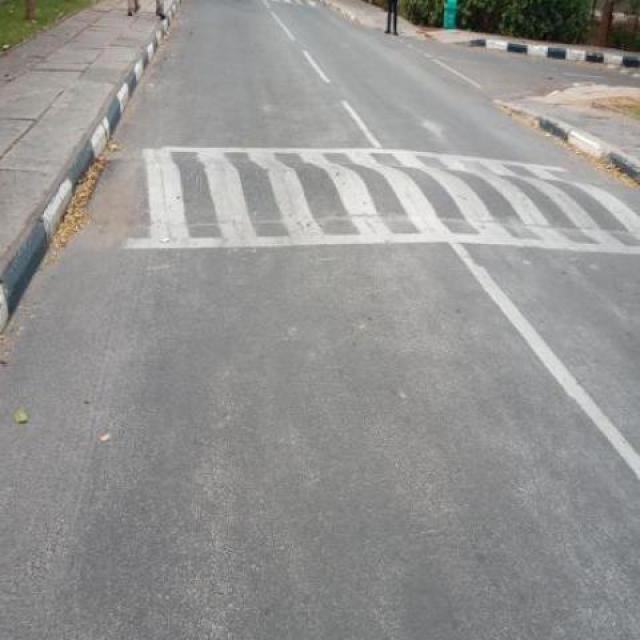Speed Bump: (81, 143, 638, 250)
